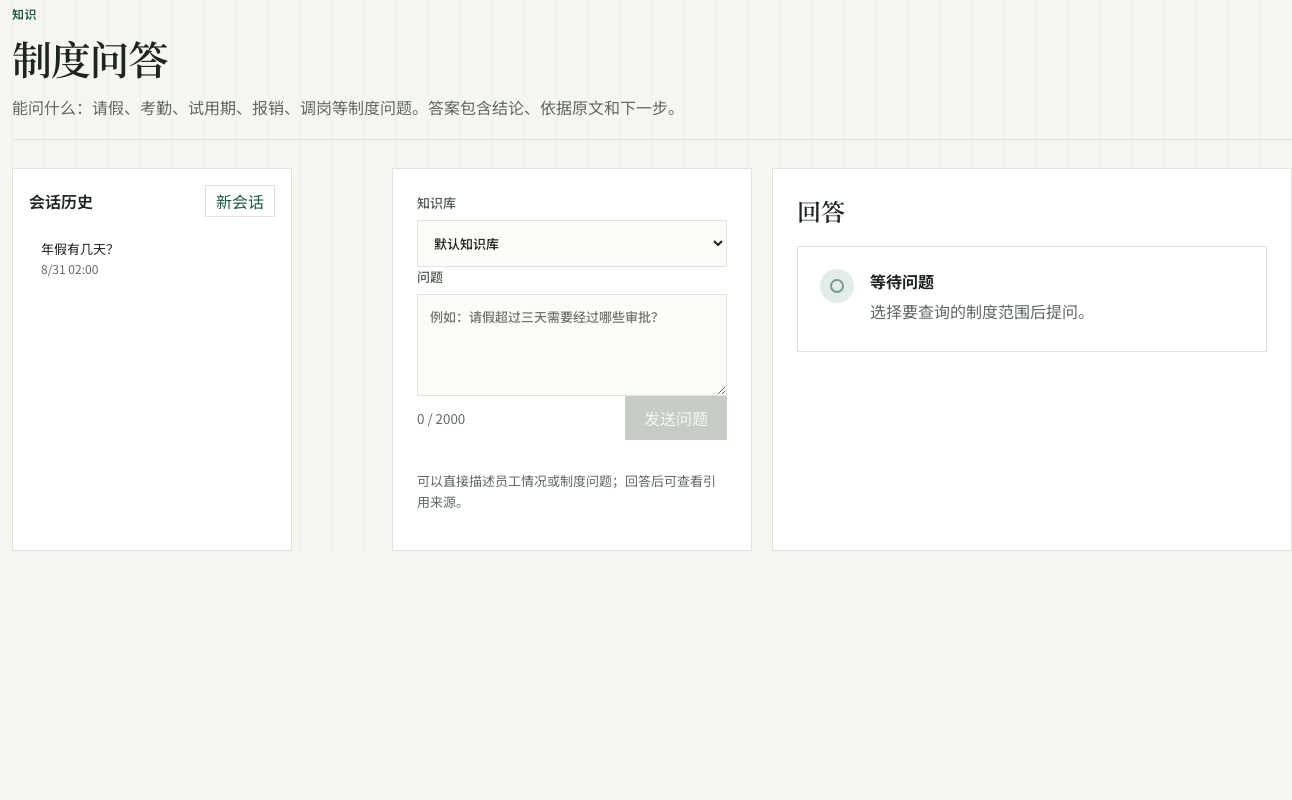
Test: policy QA feedback chain (audit P1-6) › a replayed historical answer restores message identity for feedback
Step 1. Click the button "年假有几天？ 8/31 02:00" → (152, 258), box left=29, top=229, right=275, bottom=287
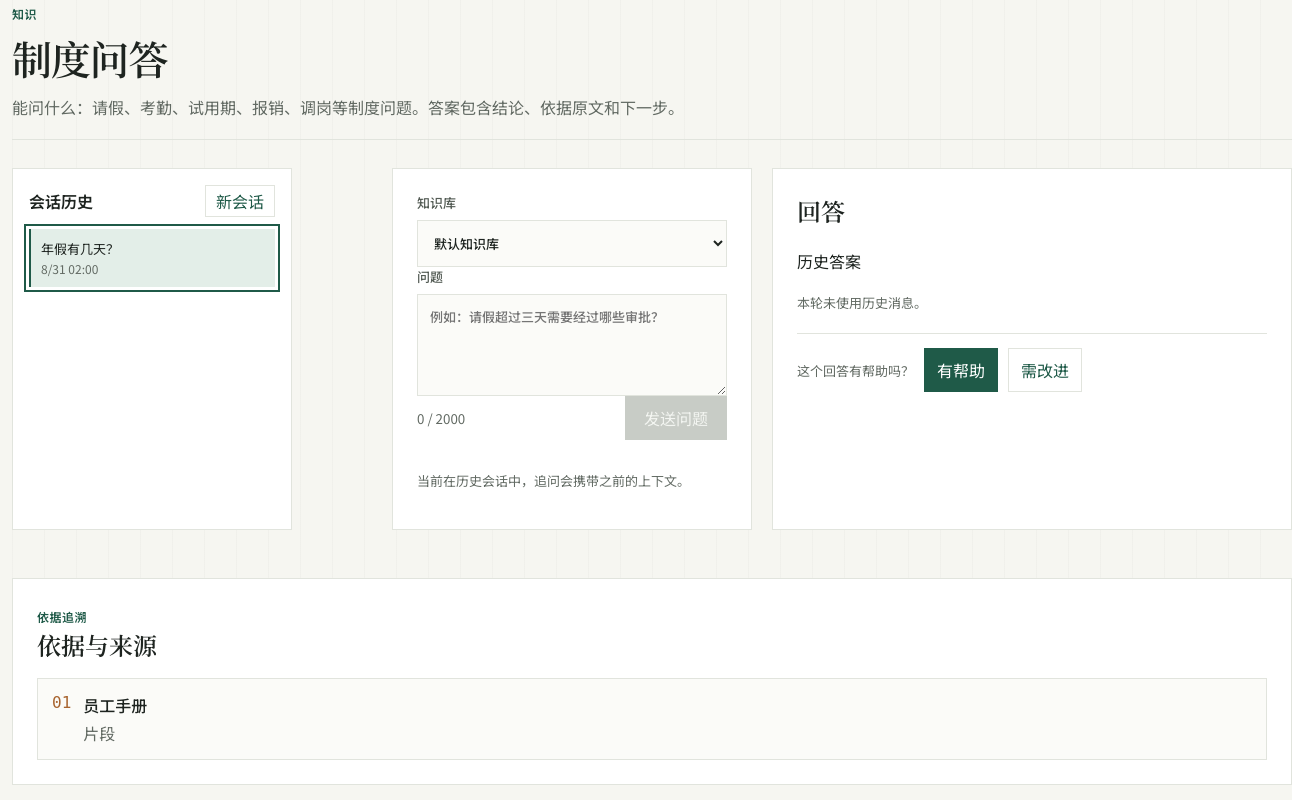
expect the text "历史答案" is shown: met, box left=797, top=249, right=861, bottom=273
Step 2. Click the button "有帮助" → (961, 370), box left=924, top=348, right=998, bottom=392
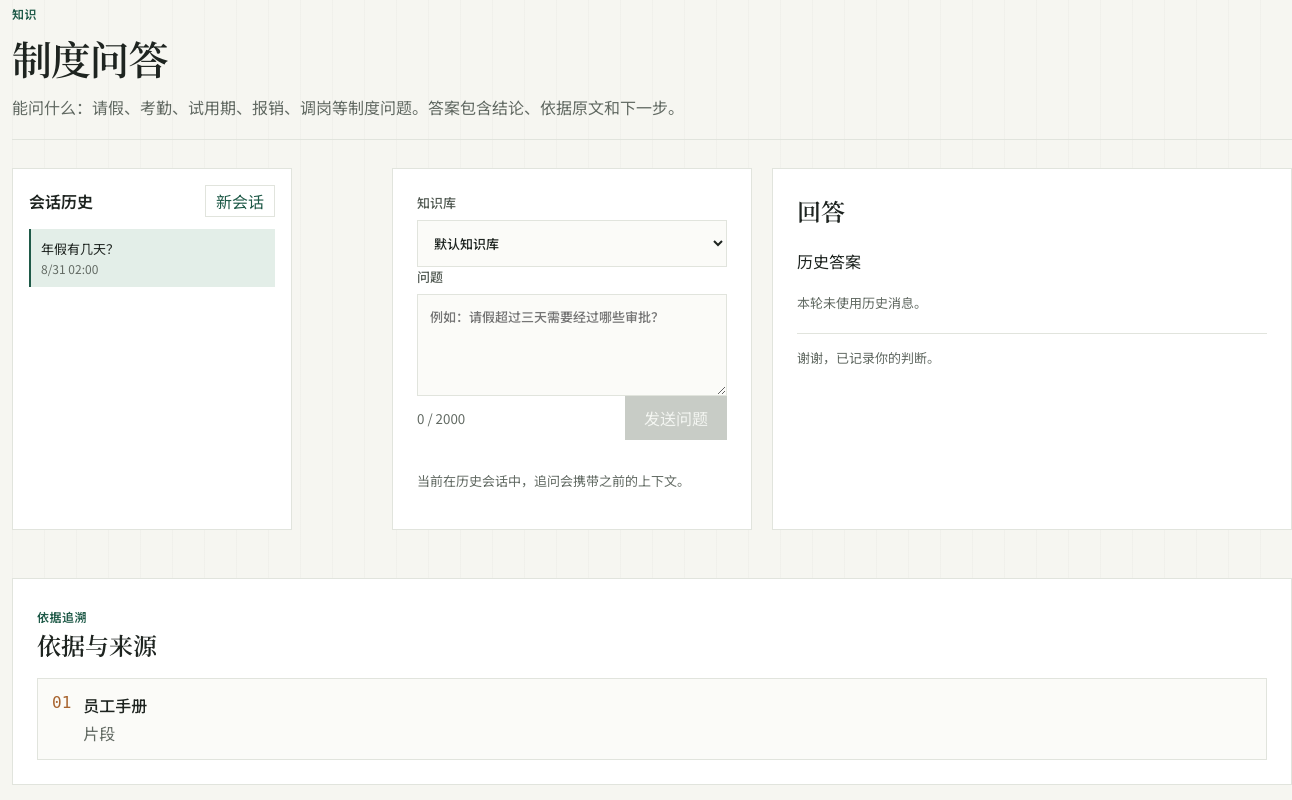
expect the text "谢谢，已记录你的判断。" is shown: met, box left=797, top=348, right=940, bottom=367
